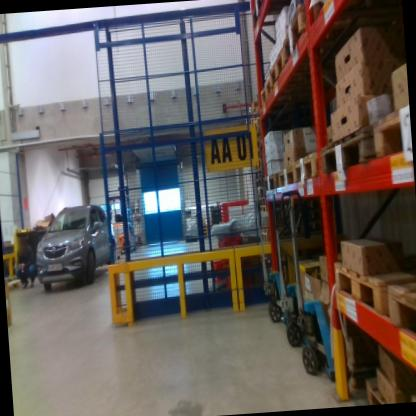forklift: (101, 184, 142, 253)
pallet: (334, 251, 416, 325), (276, 2, 342, 63), (266, 43, 335, 96), (320, 119, 379, 180), (367, 92, 412, 165), (259, 75, 325, 117), (383, 278, 416, 351), (292, 145, 327, 189), (361, 374, 408, 404), (276, 159, 297, 193), (262, 167, 282, 198), (250, 176, 268, 195), (243, 112, 260, 127), (260, 231, 275, 244), (254, 187, 270, 199), (251, 159, 265, 172), (252, 149, 265, 163), (254, 134, 266, 148), (252, 172, 267, 181), (256, 199, 268, 209), (256, 206, 269, 215), (250, 101, 258, 114), (202, 231, 214, 238), (253, 129, 260, 140), (256, 121, 262, 132), (201, 224, 212, 229), (201, 229, 212, 232)
pallet_truck: (280, 179, 347, 389), (247, 200, 294, 327), (268, 186, 299, 345)
small_load_carrier: (226, 256, 253, 296), (214, 228, 250, 255), (204, 257, 227, 295)
